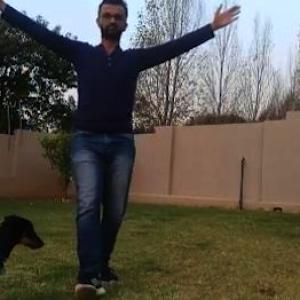takeoff: (0, 0, 256, 282)
